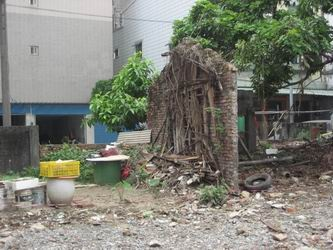bowl: (47, 178, 75, 204)
bucket: (92, 160, 122, 186)
styrofoam: (5, 176, 40, 190)
tire: (243, 171, 273, 191)
